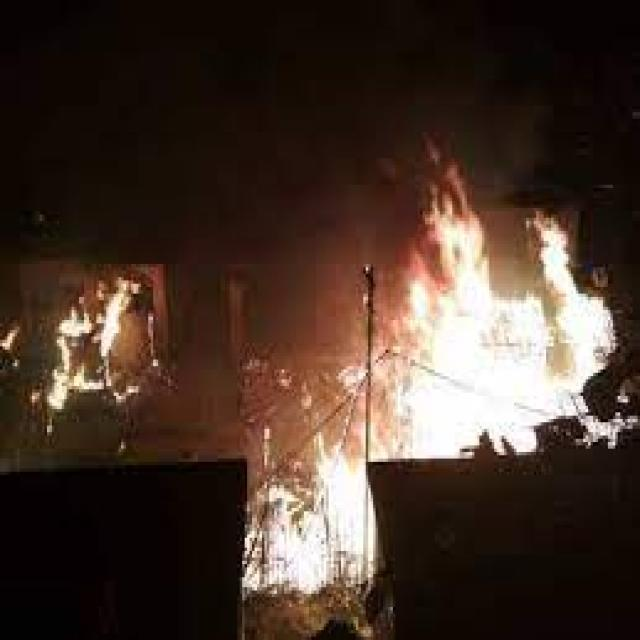Fire: (236, 424, 403, 640), (422, 310, 596, 462)
